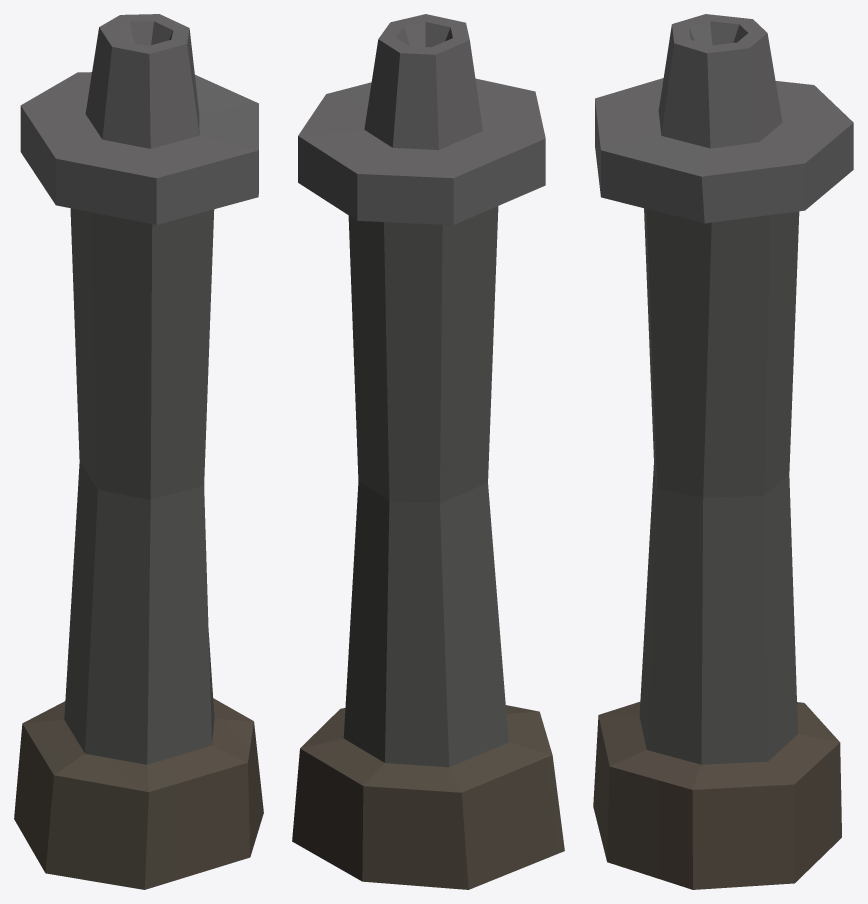
File: kingdom_SM_Bld_House_Chimney_06.gltf
The picture shows the model from 3 angles, left to right: view 1: azimuth 30°, elevation 25°; view 2: azimuth 150°, elevation 25°; view 3: azimuth 270°, elevation 25°; orthographic projection.
Visible parts, largest first — view 1: SM_Bld_House_Chimney_06; view 2: SM_Bld_House_Chimney_06; view 3: SM_Bld_House_Chimney_06.
Part boxes in pixels (bbox=[...]): SM_Bld_House_Chimney_06: bbox=[14, 14, 263, 889]; SM_Bld_House_Chimney_06: bbox=[292, 14, 564, 889]; SM_Bld_House_Chimney_06: bbox=[593, 14, 853, 889].
Bounding box in the file's own units: 0.7285 × 2.48 × 0.7203.
Materials: 1 (1 with a texture image).
